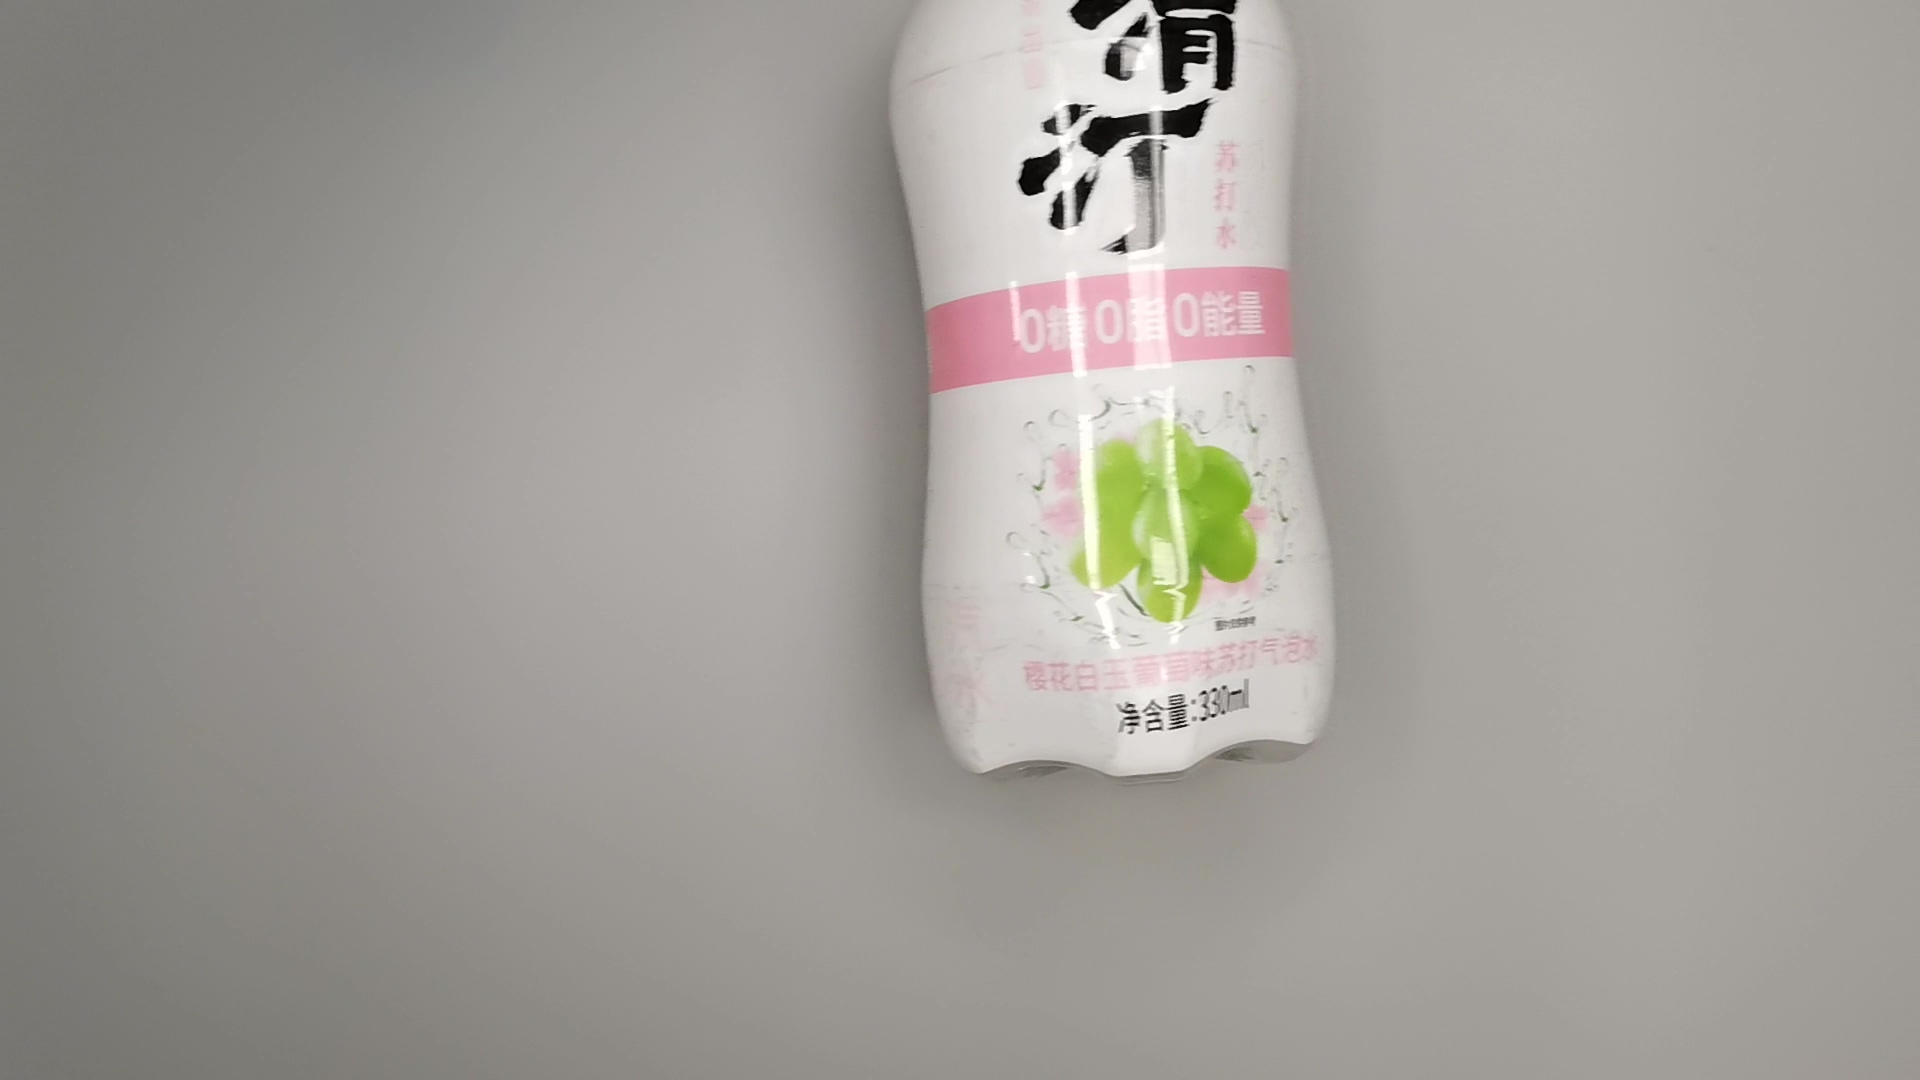bottle: (881, 1, 1360, 795)
